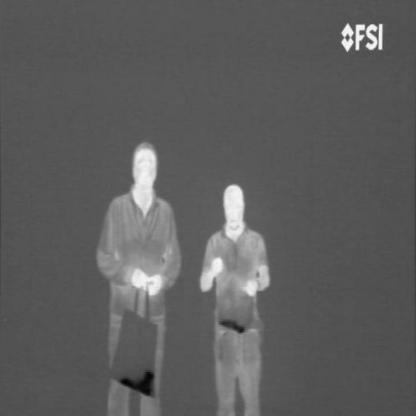weapon: (118, 366, 154, 397)
